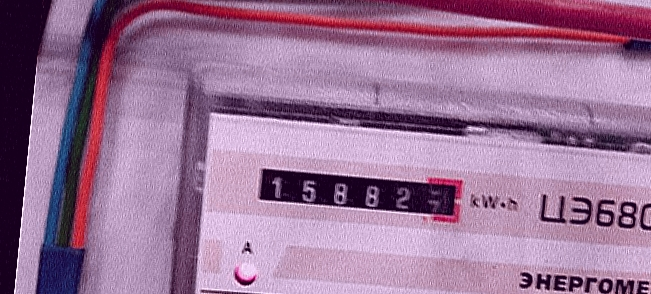1: (266, 174, 283, 201)
2: (392, 184, 410, 211)
5: (297, 177, 316, 204)
7: (423, 197, 438, 214)
8: (328, 180, 347, 206), (360, 181, 378, 208)
screen: (241, 152, 472, 234)
